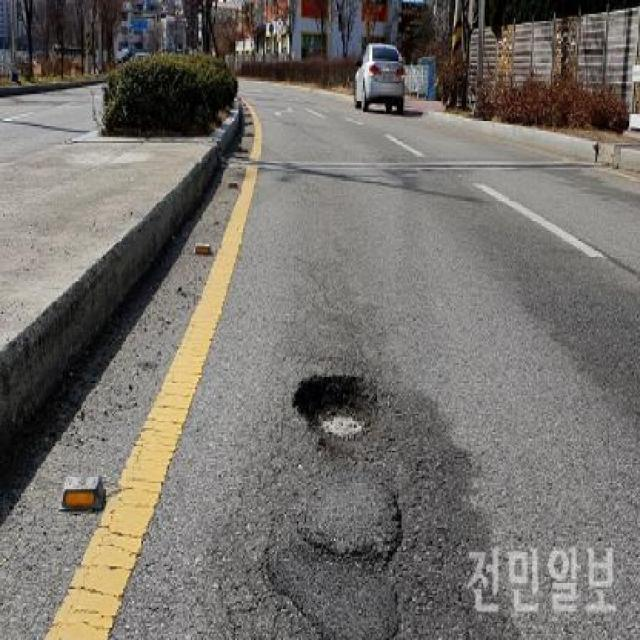Buraco: (290, 372, 382, 443)
